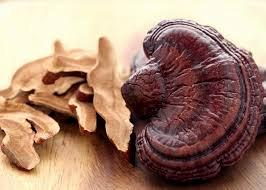Ganoderma - Fruit Body: (132, 20, 265, 181), (0, 33, 130, 176)
